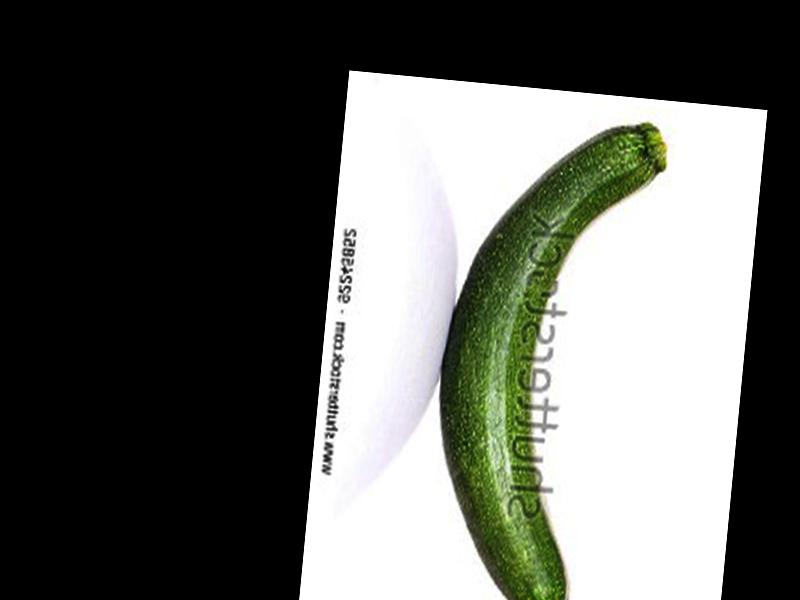Cucumber: (420, 108, 670, 600)
